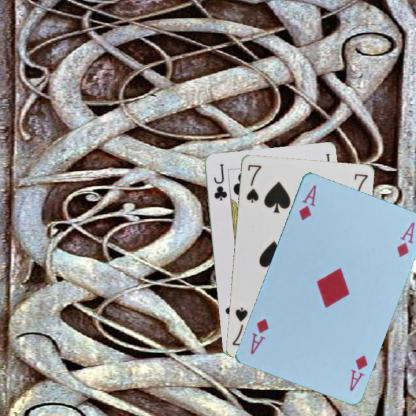7s: (244, 161, 262, 204)
Ad: (296, 181, 318, 222), (347, 352, 369, 392)
Jc: (211, 160, 228, 202)
